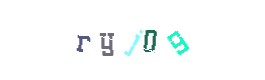0: (110, 0, 190, 80)
9: (138, 0, 218, 80)
J: (92, 0, 172, 80)
R: (65, 0, 145, 80)
Y: (88, 0, 168, 80)
